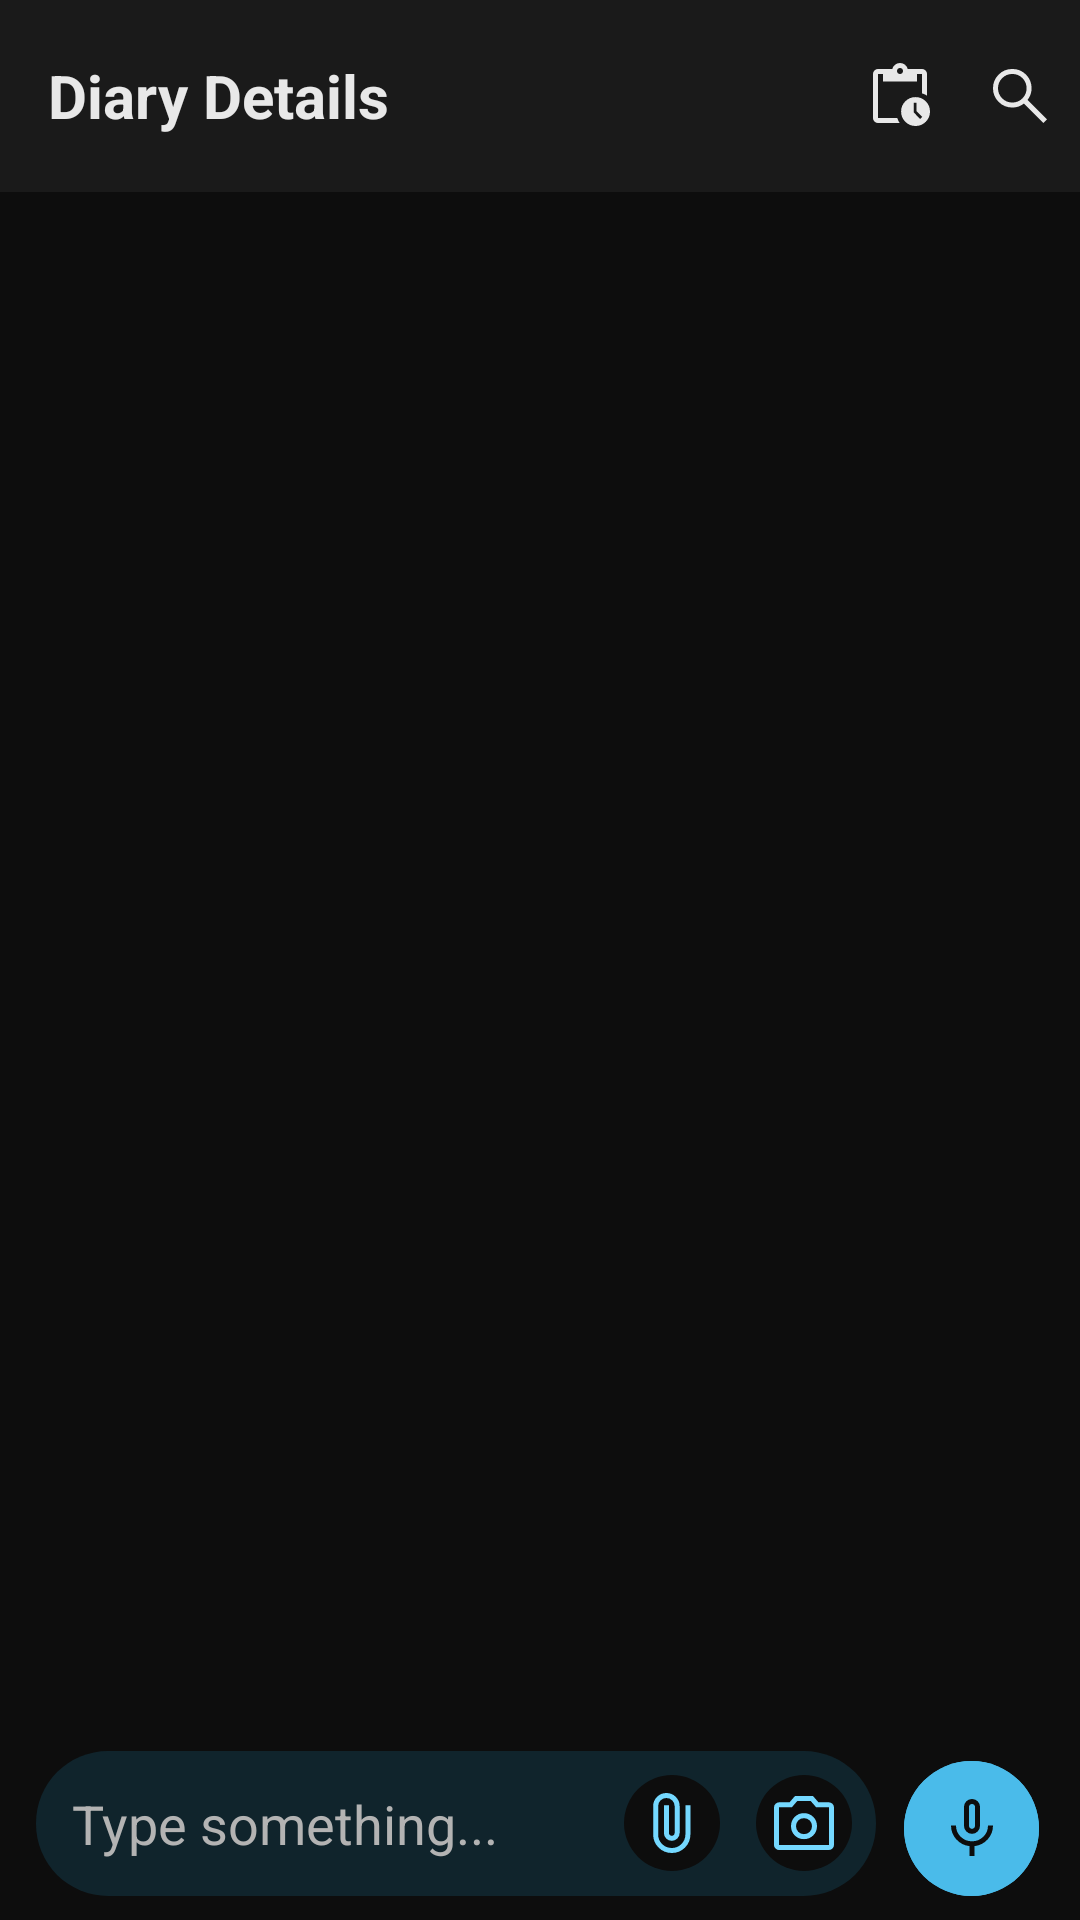

Where to tap for icons on this 1080px x 1920px app screen, as (x,y):
Attach: (672,1823)
Camera: (804,1823)
Pending: (901,94)
Search: (1020,96)
